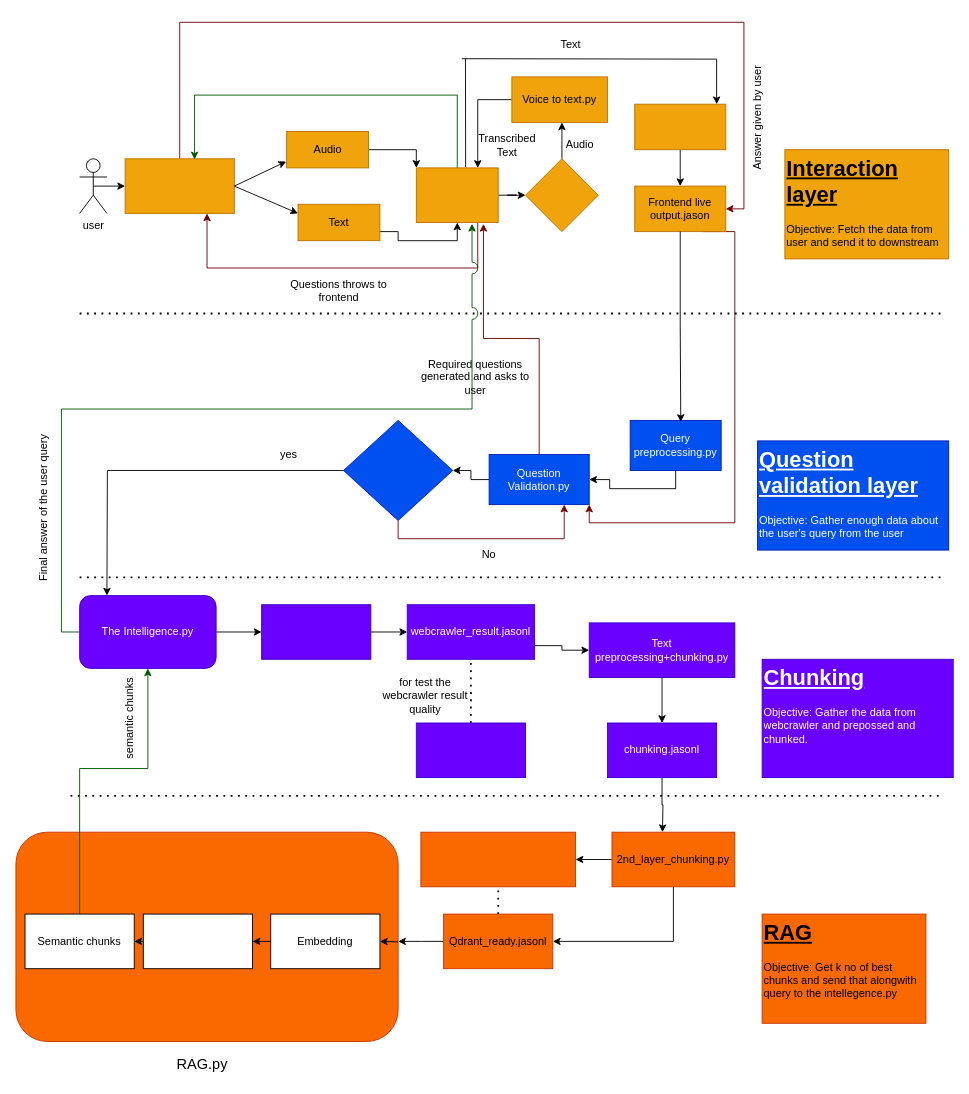
The diagram is 969 pixels wide and 1094 high, and some of its shapes have lost their labels. The shapes that lost their labels are listed below. From the top down, each one's box as (x1, y1, x2, y2) in pixels, then its label:
(634, 103, 726, 150): Frontend live output.md
(124, 158, 234, 213): Index.HTML
(415, 167, 498, 222): App.py
(525, 158, 598, 232): If audio
(343, 420, 453, 521): Is the query holds sufficient data?
(261, 604, 371, 659): Wbcrawler.py
(415, 722, 526, 778): crawl quality audit.py
(420, 831, 576, 887): 2nd_layer_chunking.jasonl
(142, 913, 253, 969): Vector db
